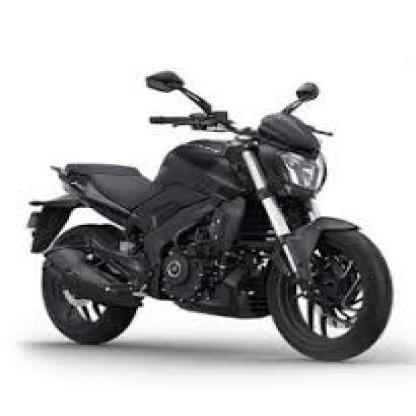Motorcycle: (21, 53, 401, 366)
